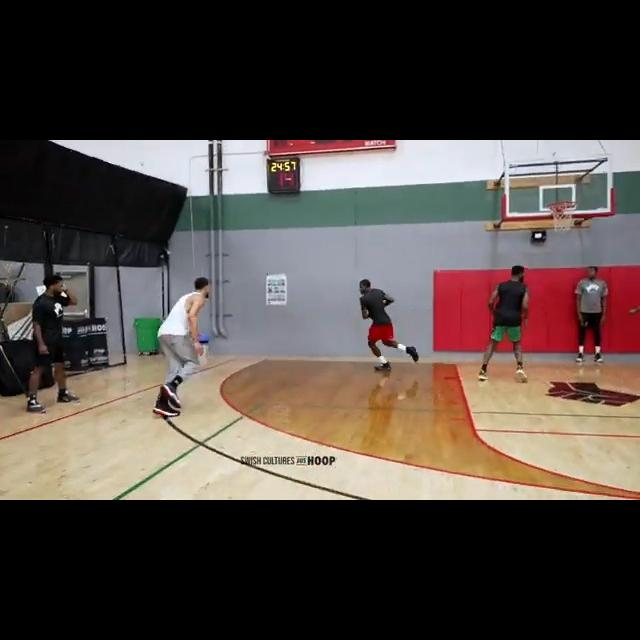hoop: (548, 202, 577, 234)
person: (151, 268, 215, 418), (21, 266, 83, 412), (475, 255, 534, 389), (352, 271, 421, 374), (569, 263, 610, 366)
